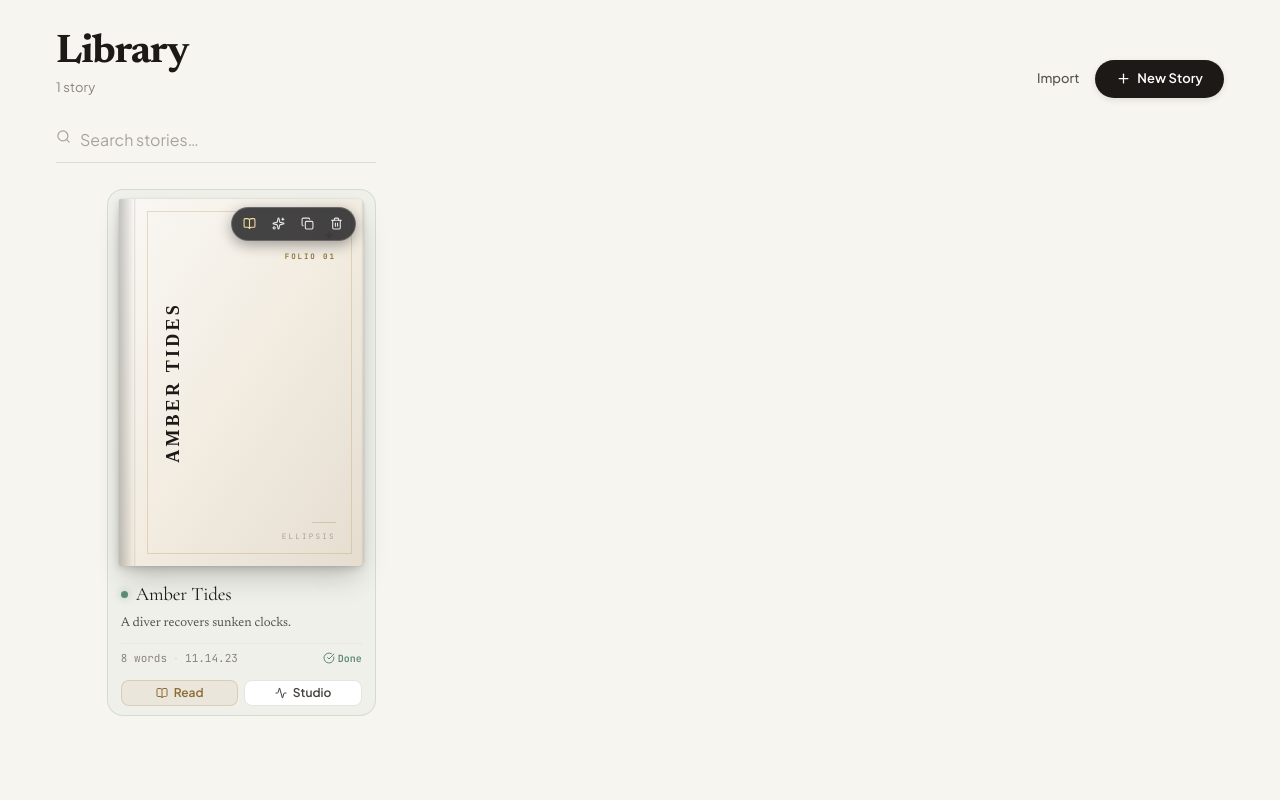
Test: Phase 5D: Extracted core Studio views › renders LibraryView empty/search states and triggers onSelectStory & duplication
Later steps or results of the test are not shown.
Click the button "Read" at [180, 693], box [121, 680, 238, 706]
Click the button named "Duplicate Story" at [308, 224], box [295, 210, 321, 236]
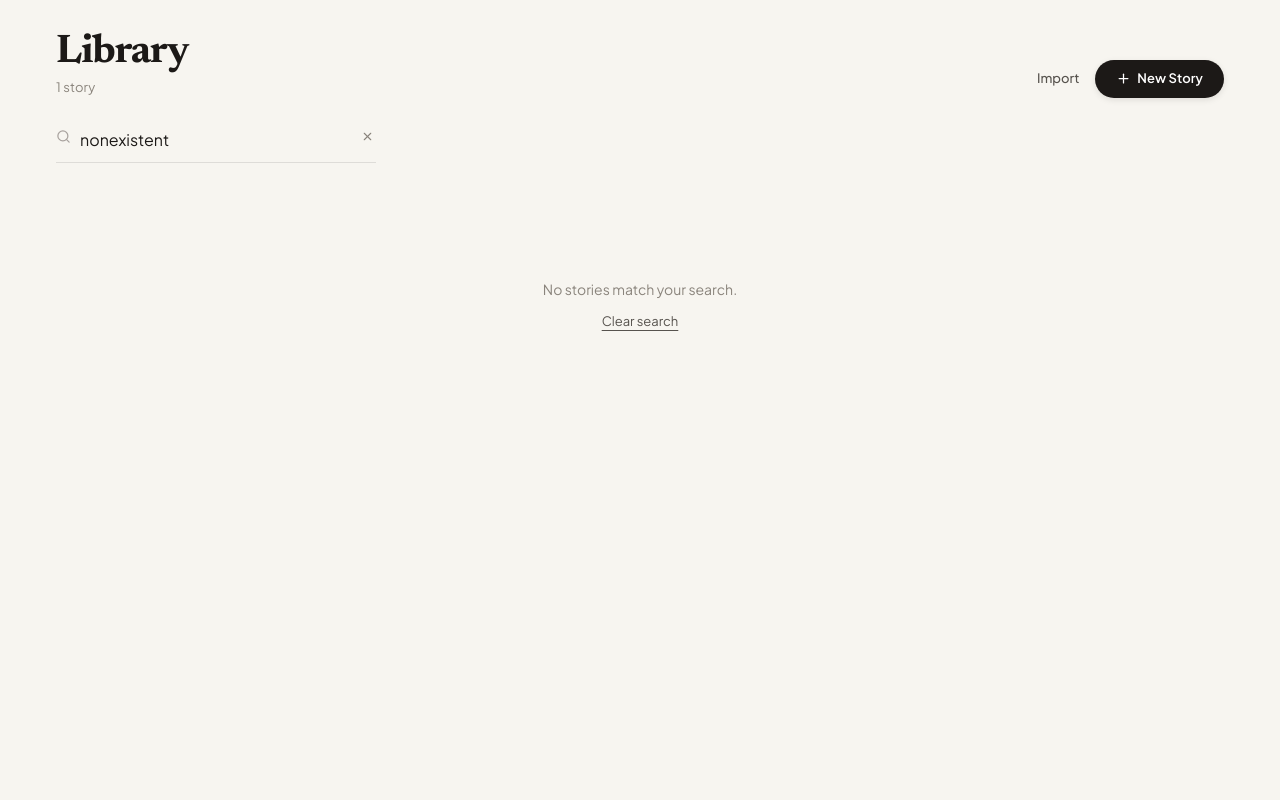
Expected: the text "No stories match your search." is shown, [543, 280, 737, 298]
